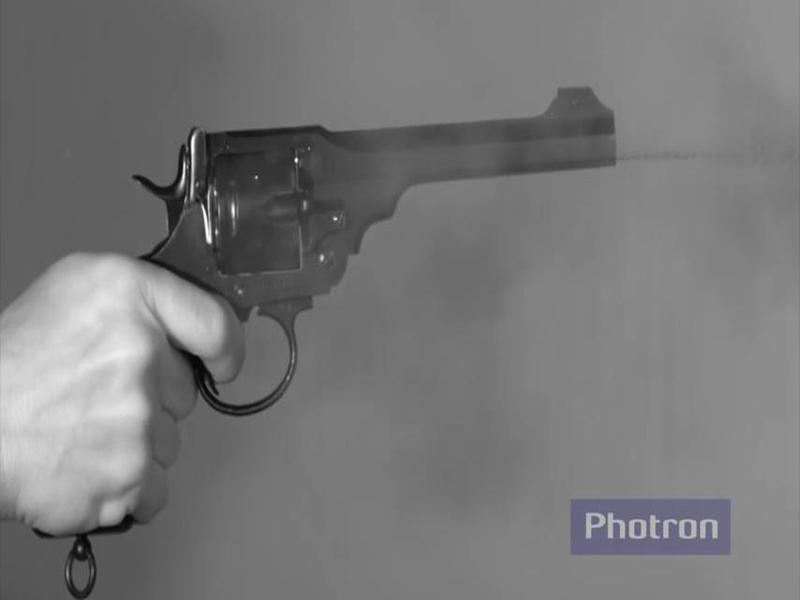Revolver: (131, 64, 637, 424)
